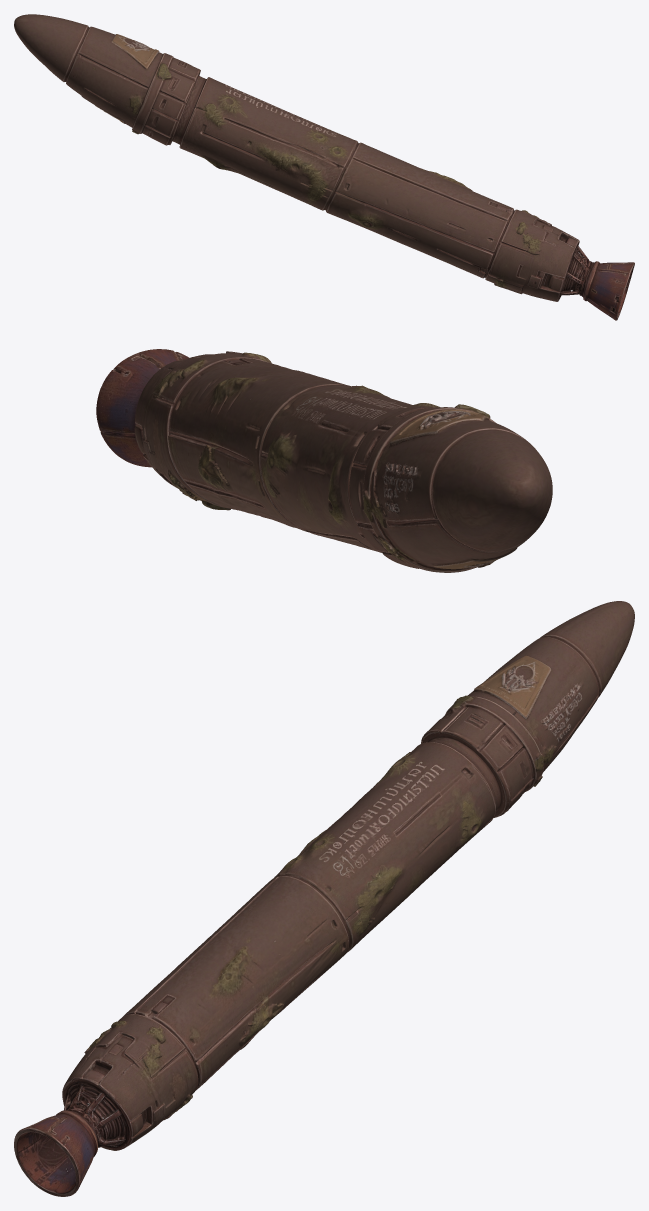
The model's file is rusty_rocket_3d_model.fbx.
The picture shows the model from 3 angles, top to bottom: view 1: azimuth 30°, elevation 25°; view 2: azimuth 150°, elevation 25°; view 3: azimuth 270°, elevation 25°; orthographic projection. The views are drawn at different scales.
Visible parts, largest first — view 1: tripo_node_2db5d027; view 2: tripo_node_2db5d027; view 3: tripo_node_2db5d027.
Boxes of the visible parts, x1=… form: tripo_node_2db5d027: x1=14, y1=14, x2=634, y2=320; tripo_node_2db5d027: x1=96, y1=349, x2=552, y2=572; tripo_node_2db5d027: x1=14, y1=601, x2=634, y2=1196.
Size of the model in its own units: 0.9794 by 0.5483 by 0.918.
